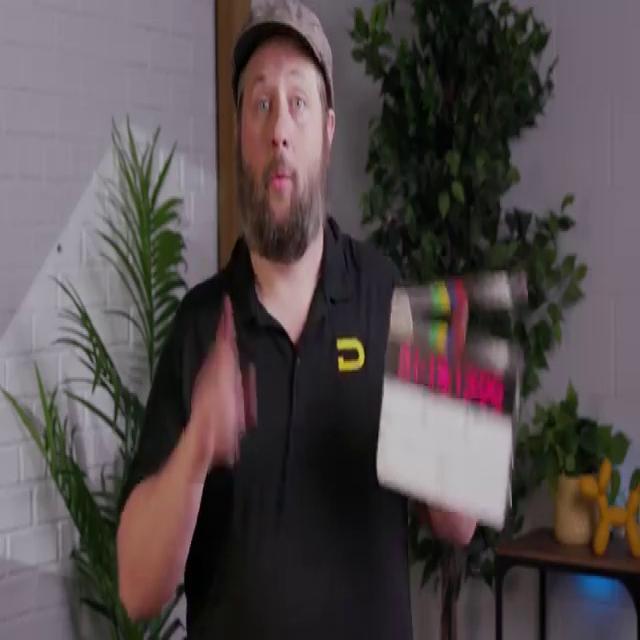Clapperboard: (374, 268, 529, 535)
